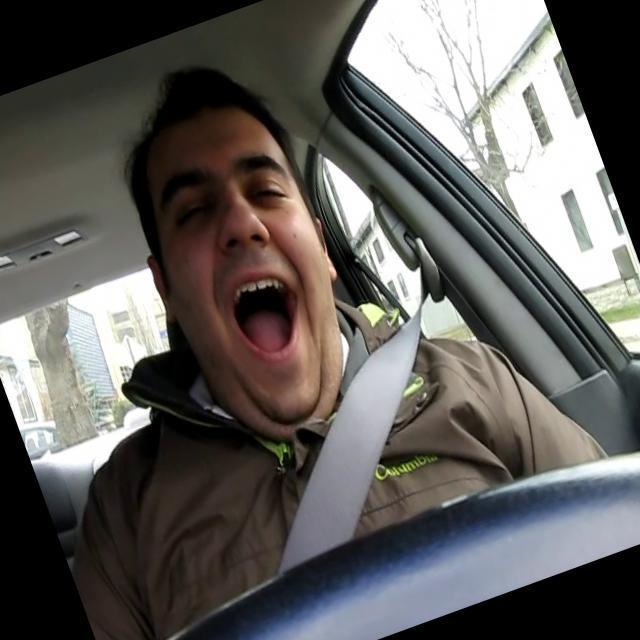open-mouth: (228, 270, 300, 366)
